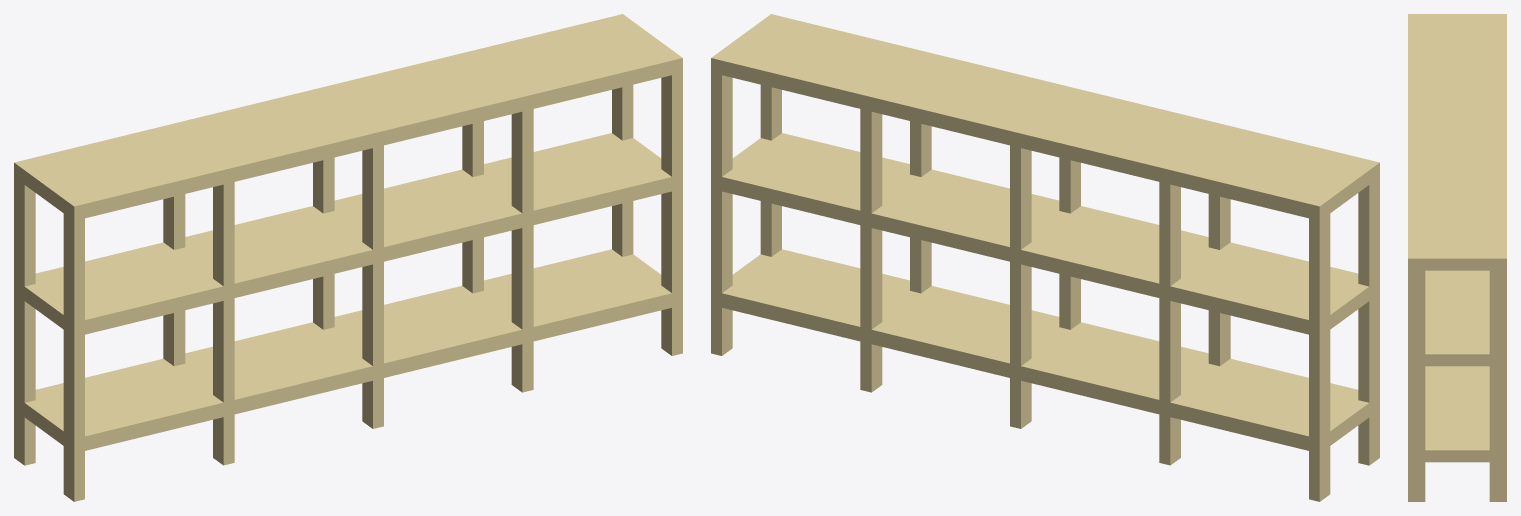
The model's file is Shelf.fbx.
The picture shows the model from 3 angles, left to right: view 1: azimuth 30°, elevation 25°; view 2: azimuth 150°, elevation 25°; view 3: azimuth 270°, elevation 25°; orthographic projection. The views are drawn at different scales.
Parts seen in each view (by area): view 1: Shelf; view 2: Shelf; view 3: Shelf.
Boxes of the visible parts, x1=… form: Shelf: x1=14, y1=14, x2=682, y2=501; Shelf: x1=711, y1=14, x2=1379, y2=501; Shelf: x1=1408, y1=14, x2=1506, y2=501.
Bounding box in the file's own units: 361 × 167 × 61.64.
